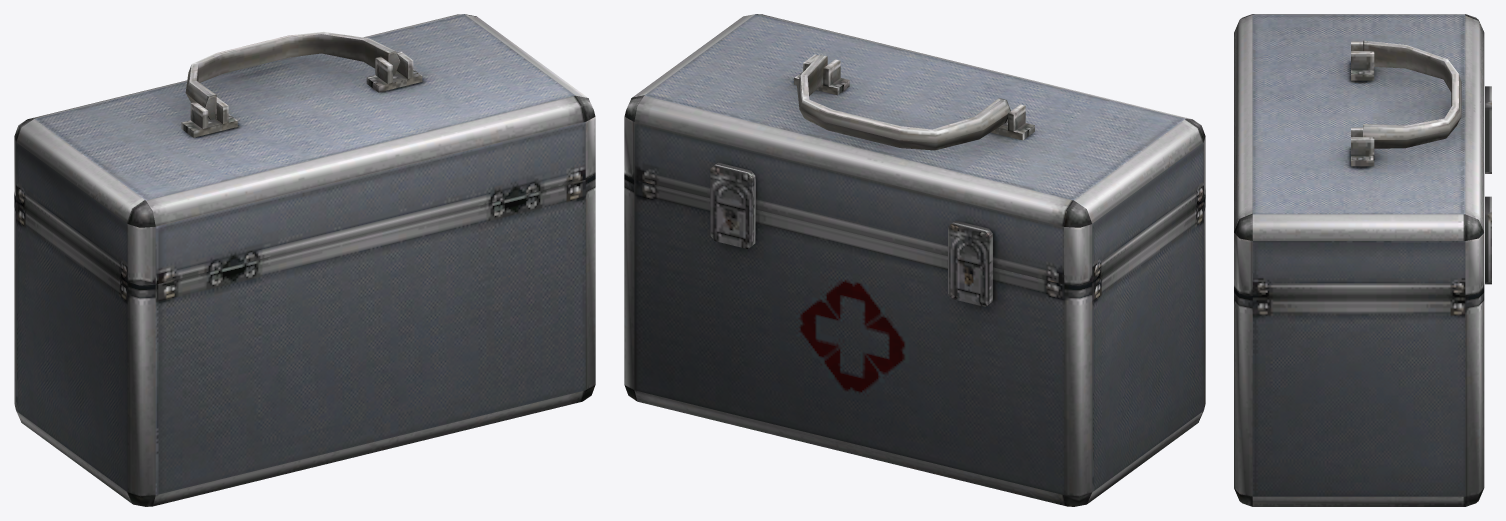
Rendered from Pickup_Medicalbox1.glb.
3 views of the same model, side by side, from view 1: azimuth 30°, elevation 25°; view 2: azimuth 150°, elevation 25°; view 3: azimuth 270°, elevation 25° (orthographic). The views are drawn at different scales.
Visible parts, largest first — view 1: pk_Medicalbox_1; view 2: pk_Medicalbox_1; view 3: pk_Medicalbox_1.
Part boxes in pixels (x1,y1,x2,y2): pk_Medicalbox_1: [14, 14, 595, 506]; pk_Medicalbox_1: [624, 14, 1205, 506]; pk_Medicalbox_1: [1234, 14, 1491, 506].
Bounding box in the file's own units: 0.6812 × 0.4723 × 0.3427.
Materials: 1 (1 with a texture image).
